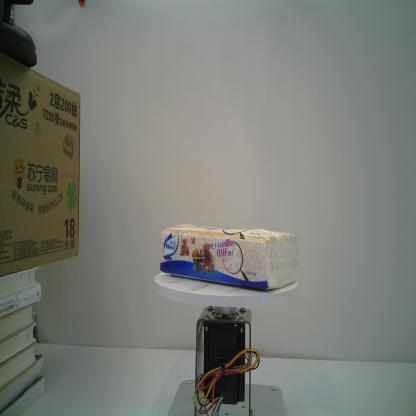Tissue: (156, 221, 298, 296)
